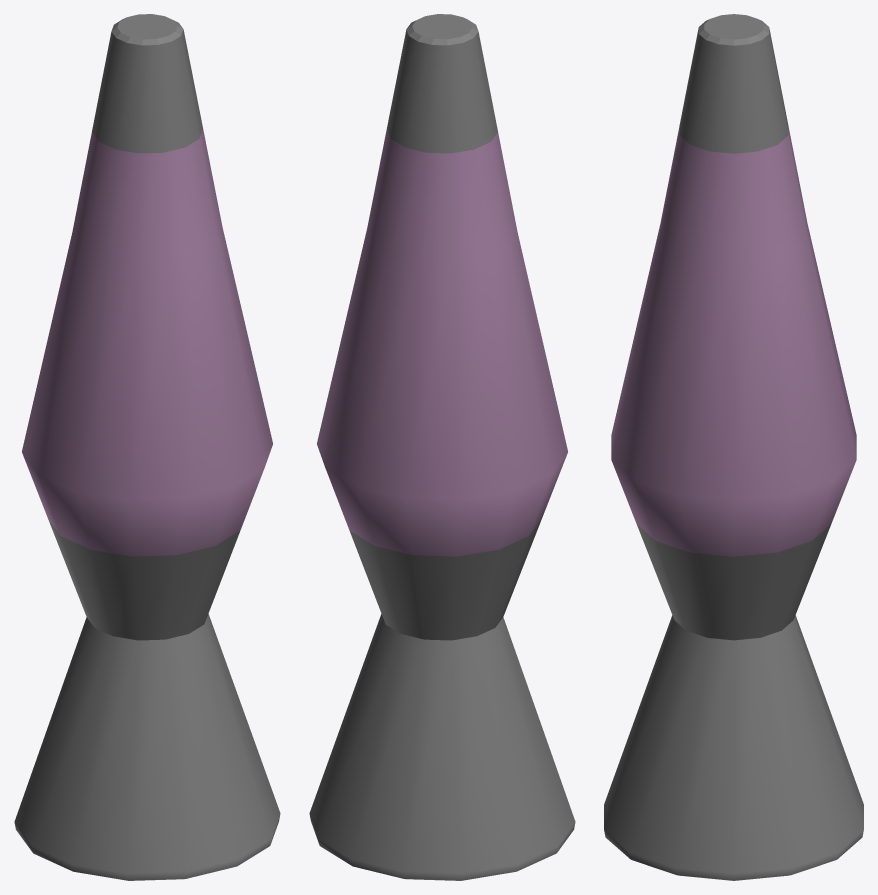
The model's file is max_lavalamp_nonuv.fbx.
3 views of the same model, side by side, from view 1: azimuth 30°, elevation 25°; view 2: azimuth 150°, elevation 25°; view 3: azimuth 270°, elevation 25° (orthographic).
Visible parts, largest first — view 1: lava_lamp; view 2: lava_lamp; view 3: lava_lamp.
Boxes of the visible parts, bbox=[...] form: lava_lamp: bbox=[14, 14, 280, 880]; lava_lamp: bbox=[309, 14, 575, 880]; lava_lamp: bbox=[604, 14, 863, 880].
Size of the model in its own units: 0.1796 by 0.5961 by 0.1751.
